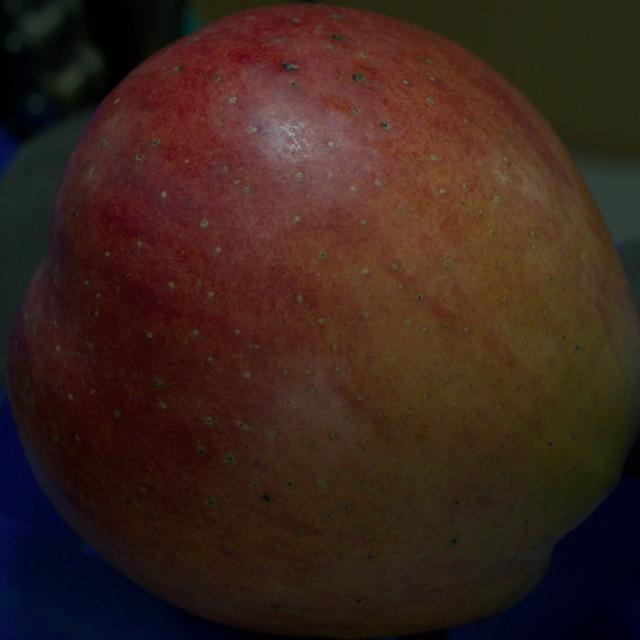apple: (6, 5, 639, 638)
pest: (283, 63, 298, 69), (352, 74, 363, 81), (332, 13, 343, 19), (152, 138, 159, 146), (451, 539, 457, 548), (333, 34, 343, 39), (381, 122, 389, 128), (263, 494, 270, 500), (289, 18, 299, 22), (74, 208, 79, 216), (214, 75, 219, 81)
